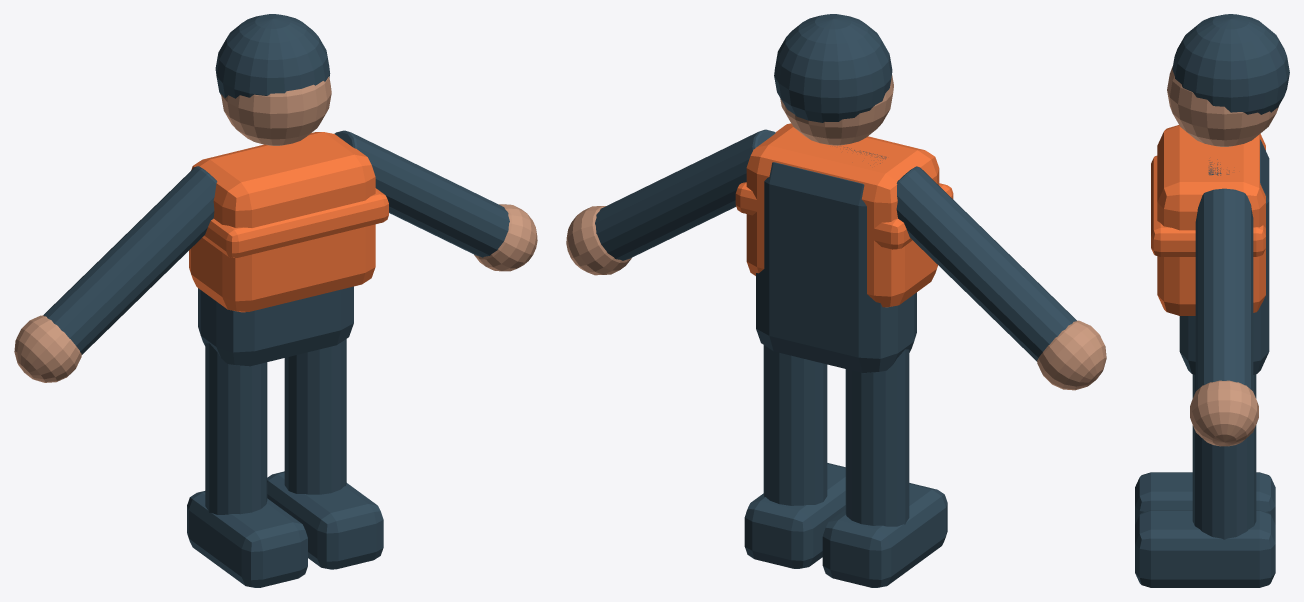
The model's file is Person_Blockout.fbx.
3 renders of one model, left to right at view 1: azimuth 30°, elevation 25°; view 2: azimuth 150°, elevation 25°; view 3: azimuth 270°, elevation 25°, orthographic. The views are drawn at different scales.
Parts seen in each view (by area): view 1: Person_LifeVest, Person_Arm_L_Mesh, Person_Leg_L, Person_Leg_R, Person_Torso, Person_Arm_R_Mesh, Person_Boot_L, Person_Hair, Person_Boot_R, Person_VestReflectiveBand, Person_Head, Person_Hand_L (+1 smaller); view 2: Person_Torso, Person_LifeVest, Person_Arm_L_Mesh, Person_Leg_L, Person_Hair, Person_Leg_R, Person_Arm_R_Mesh, Person_Boot_L, Person_Boot_R, Person_Hand_L, Person_Head, Person_Hand_R (+1 smaller); view 3: Person_Arm_R_Mesh, Person_LifeVest, Person_Boot_R, Person_Hair, Person_Leg_R, Person_Head, Person_Hand_R, Person_Boot_L, Person_Torso, Person_VestReflectiveBand.
Part boxes in pixels (x1,y1,x2,y2): Person_LifeVest: (189, 132, 375, 312); Person_Arm_L_Mesh: (43, 166, 217, 354); Person_Leg_L: (205, 343, 267, 514); Person_Leg_R: (284, 339, 346, 494); Person_Torso: (198, 286, 353, 366); Person_Arm_R_Mesh: (334, 130, 509, 257); Person_Boot_L: (187, 491, 307, 587); Person_Hair: (215, 14, 330, 98); Person_Boot_R: (267, 471, 383, 569); Person_VestReflectiveBand: (202, 188, 388, 257); Person_Head: (221, 77, 331, 145); Person_Hand_L: (14, 315, 81, 382); Person_Torso: (756, 147, 916, 373); Person_LifeVest: (746, 123, 939, 307); Person_Arm_L_Mesh: (896, 166, 1076, 361); Person_Leg_L: (845, 349, 909, 526); Person_Hair: (774, 14, 892, 122); Person_Leg_R: (763, 345, 827, 505); Person_Arm_R_Mesh: (595, 129, 775, 260); Person_Boot_L: (822, 483, 947, 587); Person_Boot_R: (744, 463, 845, 568); Person_Hand_L: (1037, 320, 1106, 390); Person_Head: (780, 75, 893, 145); Person_Hand_R: (566, 206, 631, 275); Person_Arm_R_Mesh: (1195, 188, 1253, 391); Person_LifeVest: (1157, 125, 1265, 315); Person_Boot_R: (1135, 510, 1275, 587); Person_Hair: (1172, 14, 1289, 114); Person_Leg_R: (1192, 374, 1256, 539); Person_Head: (1167, 66, 1278, 146); Person_Hand_R: (1190, 380, 1258, 446); Person_Boot_L: (1135, 472, 1275, 524); Person_Torso: (1179, 139, 1269, 374); Person_VestReflectiveBand: (1151, 155, 1265, 256).
Size of the model in its own units: 0.1904 by 0.1865 by 0.0485.
